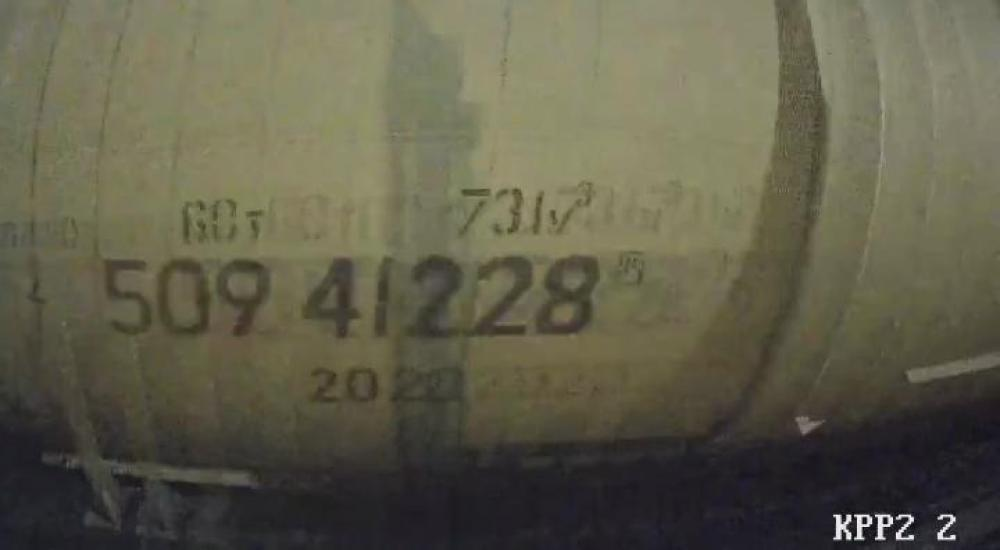Wagon-number: (94, 246, 604, 347)
